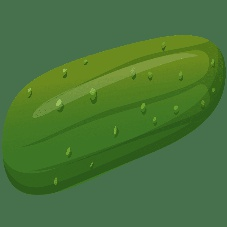cucumber: (4, 35, 225, 196)
